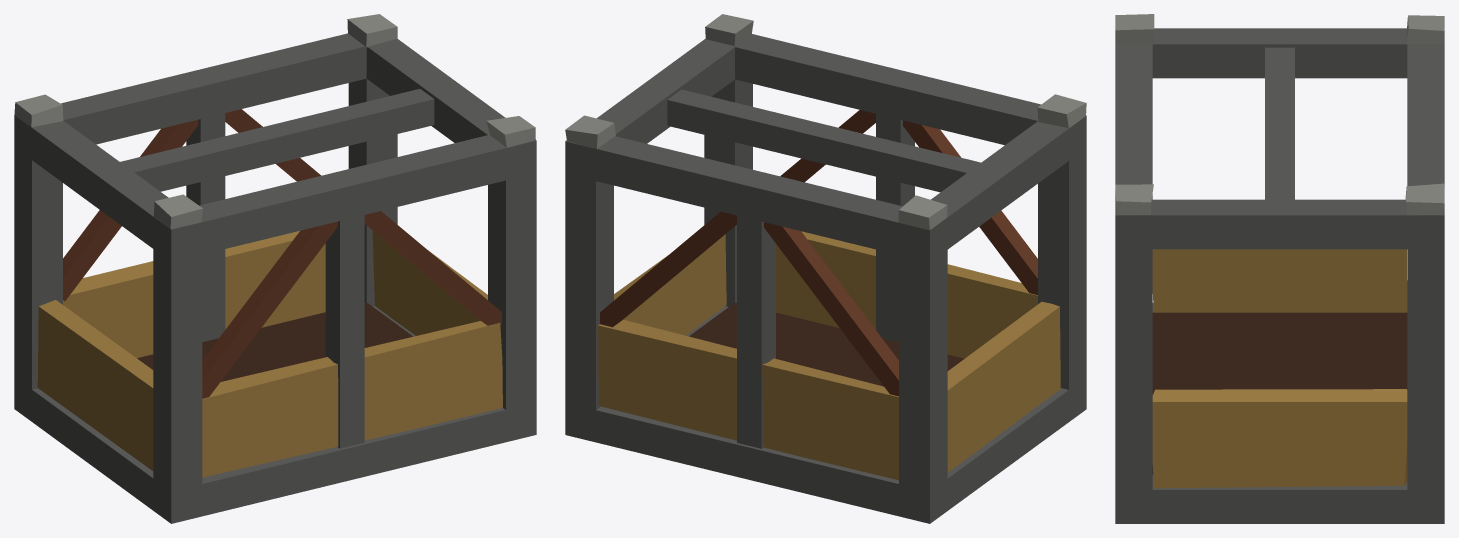
Rendered from cargo_heavy_frame.glb.
3 renders of one model, left to right at view 1: azimuth 30°, elevation 25°; view 2: azimuth 150°, elevation 25°; view 3: azimuth 270°, elevation 25°, orthographic. The views are drawn at different scales.
Visible parts, largest first — view 1: cargo_heavy_frame; view 2: cargo_heavy_frame; view 3: cargo_heavy_frame.
Boxes of the visible parts, left/top/right/bottom form: cargo_heavy_frame: left=14, top=14, right=536, bottom=523; cargo_heavy_frame: left=565, top=14, right=1086, bottom=523; cargo_heavy_frame: left=1115, top=14, right=1444, bottom=523.
Bounding box in the file's own units: 1.3 × 1.05 × 0.968.
